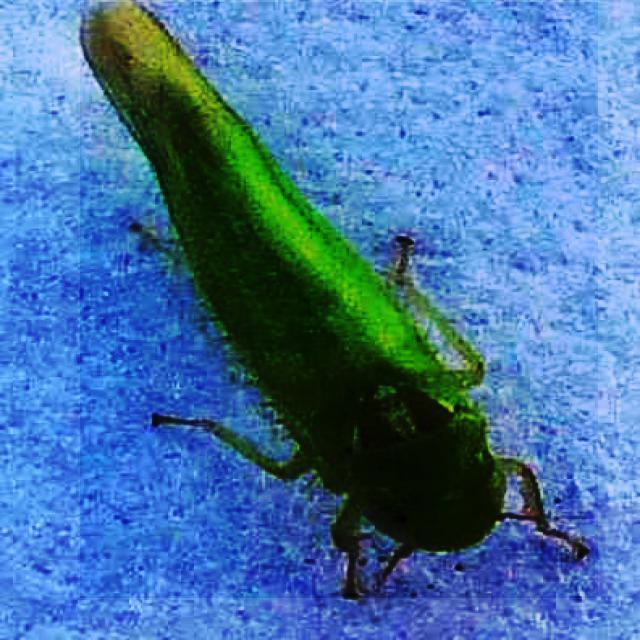green-leafhopper: (80, 3, 598, 598)
